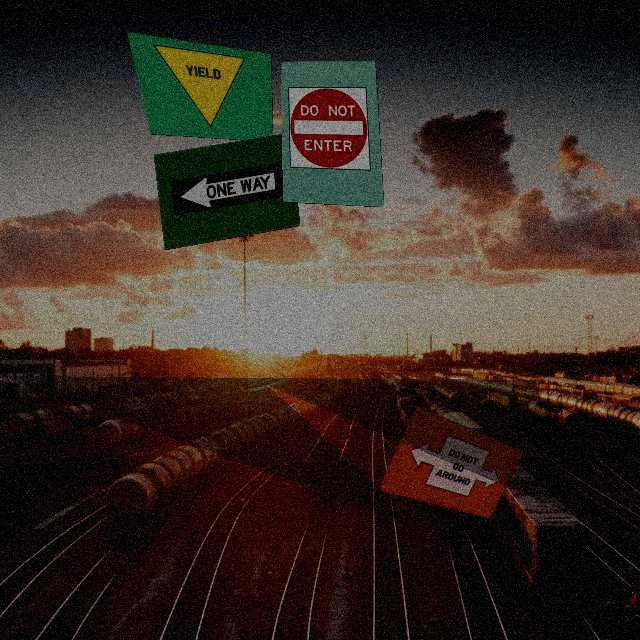DO_NOT_ENTER: (288, 83, 371, 172)
DO_NOT_GO_AROUND: (397, 421, 513, 505)
ONE_WAY_ left: (170, 160, 284, 217)
YIELD: (153, 44, 249, 130)
